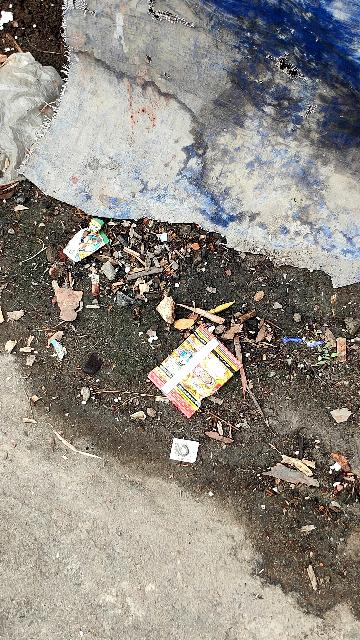packet: (145, 317, 255, 426)
